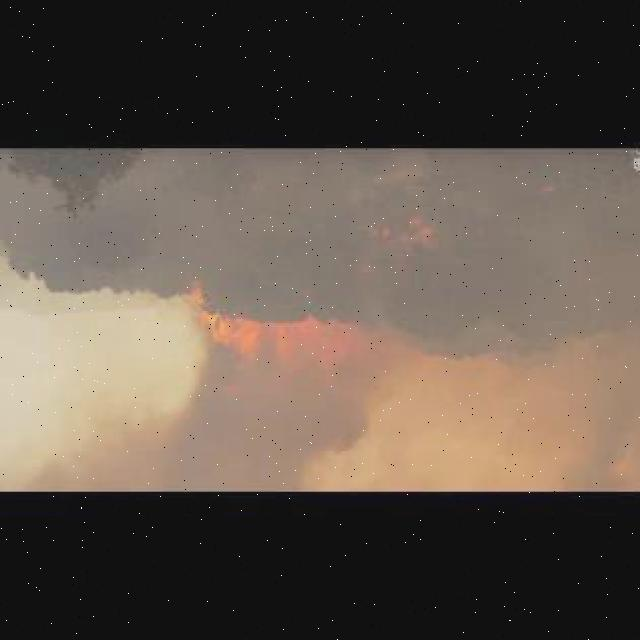fire: (185, 280, 372, 388), (397, 232, 435, 262)
